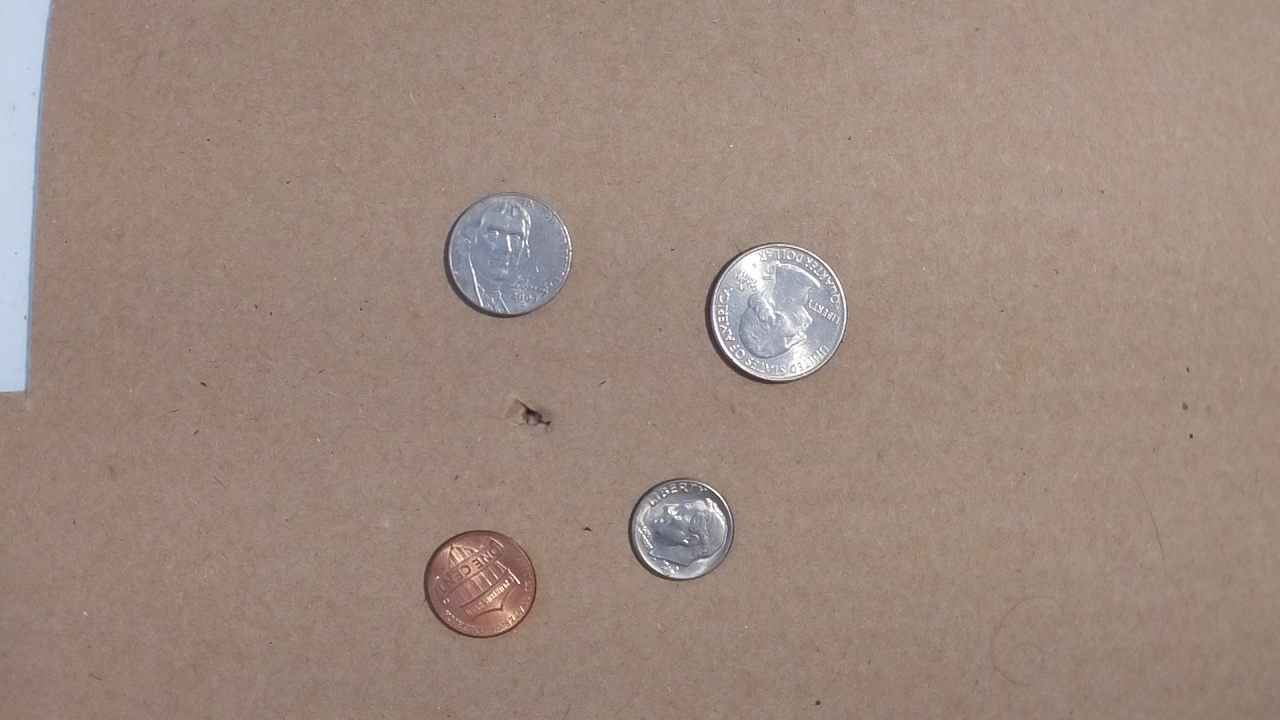dime: (625, 475, 737, 583)
nickel: (440, 186, 576, 324)
penny: (421, 524, 541, 642)
quarter: (702, 238, 850, 388)
